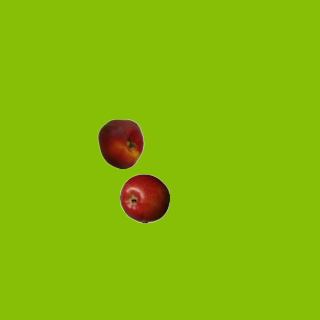Apple Braeburn: (119, 173, 169, 223)
Nectarine Flat: (95, 118, 145, 168)
